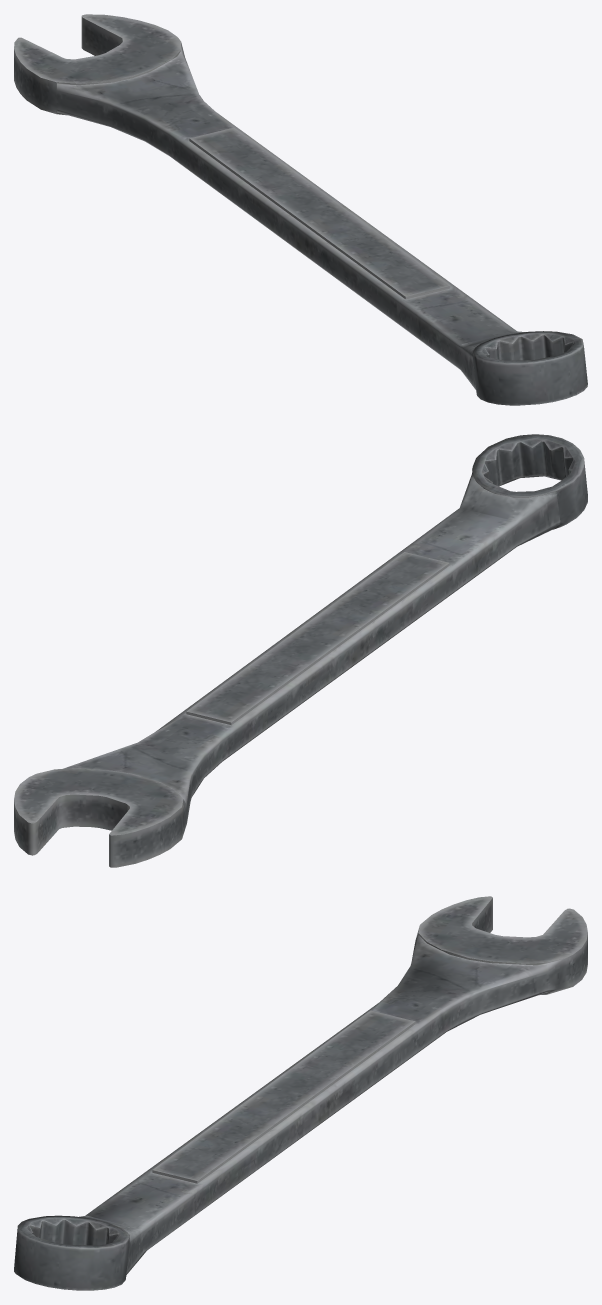
The picture shows the model from 3 angles, top to bottom: view 1: azimuth 30°, elevation 25°; view 2: azimuth 150°, elevation 25°; view 3: azimuth 330°, elevation 25°; orthographic projection.
Visible parts, largest first — view 1: combination_wrench; view 2: combination_wrench; view 3: combination_wrench.
Boxes of the visible parts, x1,y1,x2,y2 form: combination_wrench: (14,14,587,405); combination_wrench: (14,434,587,867); combination_wrench: (14,896,587,1290).
Size of the model in its own units: 0.0566 by 0.0213 by 0.3368.
1 material, 1 textured.
